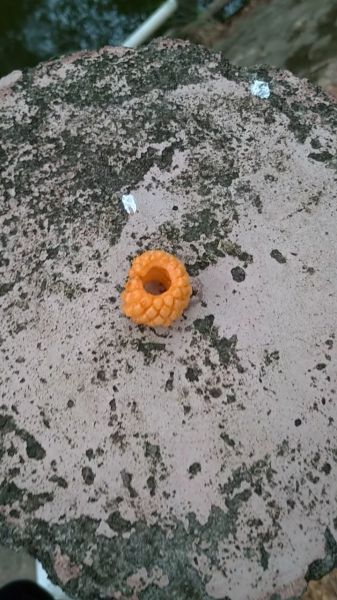eggs: (117, 244, 198, 329)
